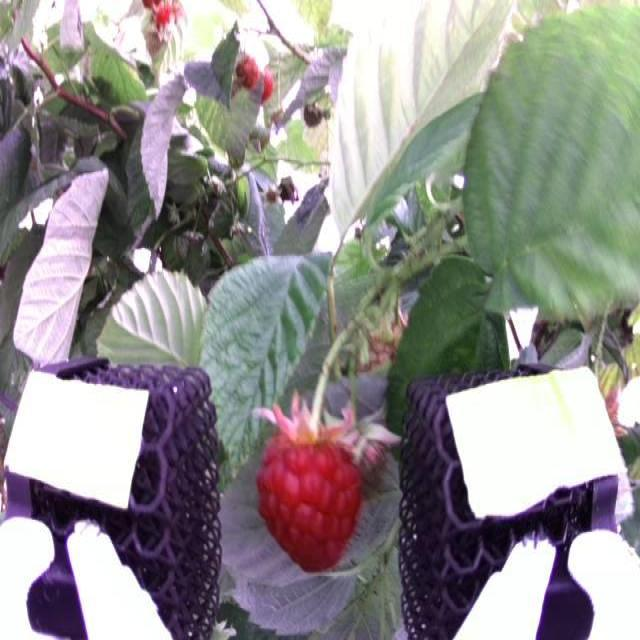Riped berries: (258, 410, 375, 572), (144, 0, 179, 32), (258, 61, 279, 99), (236, 50, 258, 86)
